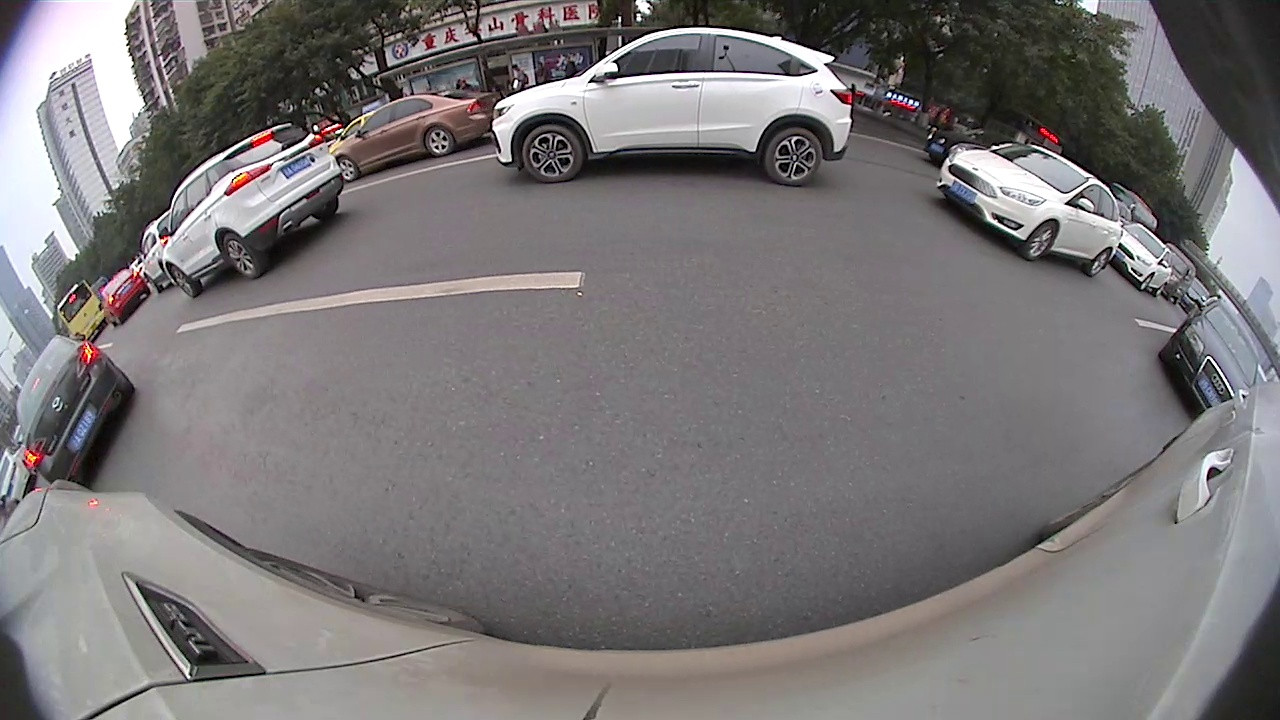bus: (55, 277, 110, 346)
car: (490, 26, 854, 187), (158, 120, 343, 300), (935, 142, 1124, 280), (17, 337, 137, 484), (329, 91, 490, 184), (1161, 295, 1261, 415), (1115, 220, 1171, 299), (98, 266, 150, 327)
front: (522, 124, 585, 184), (1022, 217, 1060, 264), (168, 262, 202, 299), (336, 156, 360, 183), (1138, 272, 1155, 294)
rear: (764, 127, 823, 186), (222, 232, 264, 280), (424, 125, 455, 158), (1087, 246, 1115, 278)
